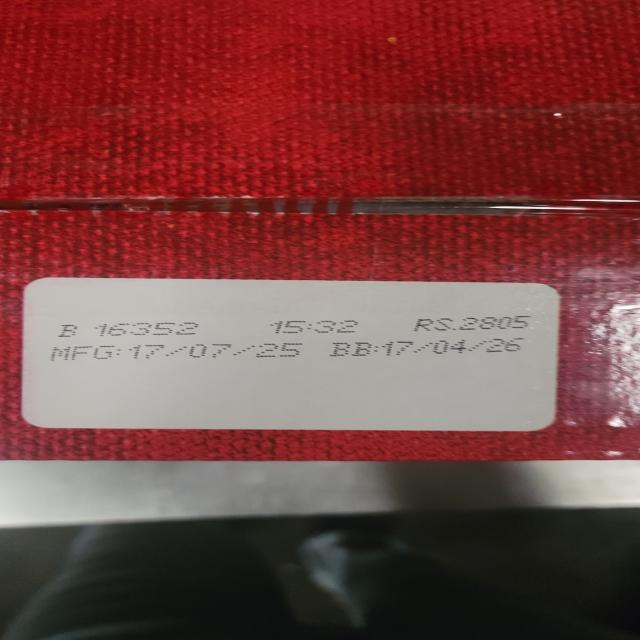BB: (328, 339, 528, 358)
Batch: (57, 322, 203, 337)
MFG: (49, 342, 303, 361)
RS: (411, 315, 538, 331)
TimeStamp: (267, 320, 363, 334)
